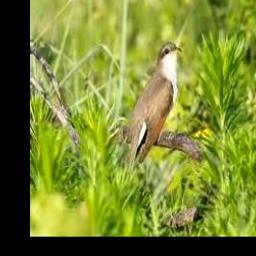Cuckoo: (126, 42, 183, 174)
